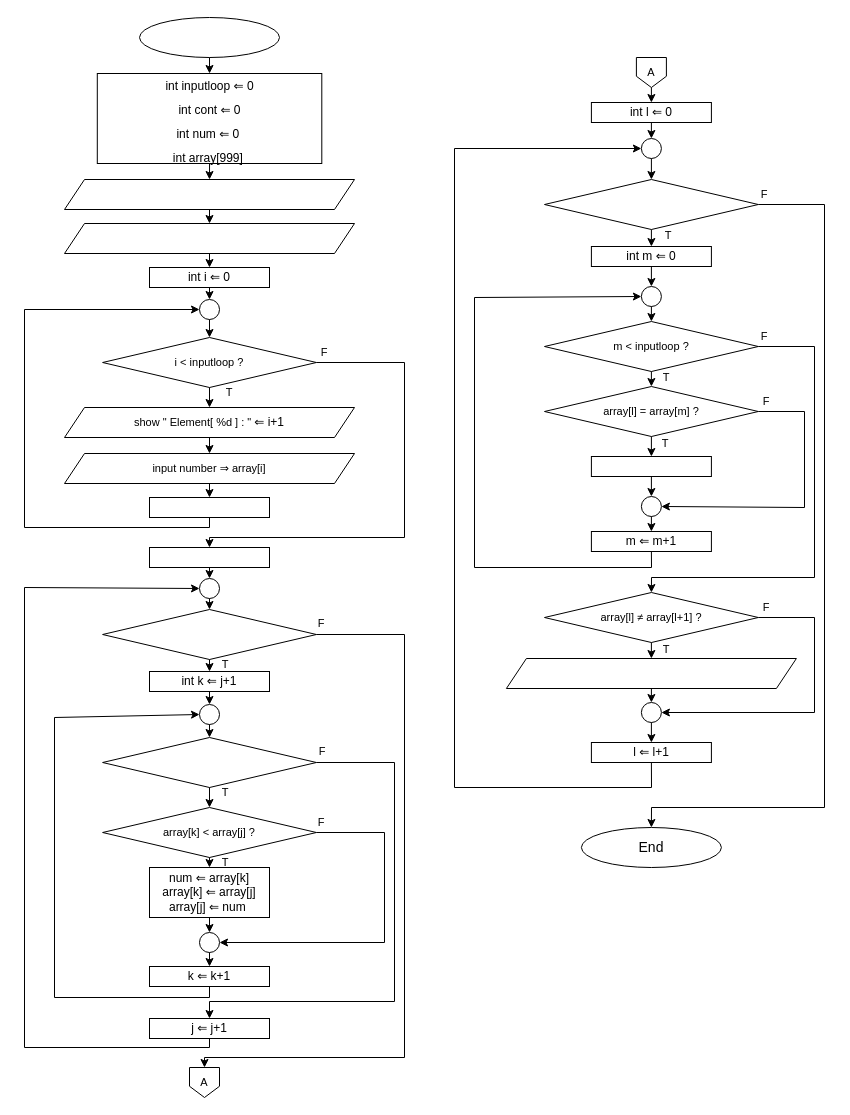
The diagram is 850 pixels wide and 1115 high, and some of its shapes have lost their labels. Each missing label, with the centre of its shape:
cont ⇐ cont+1: [650,466]
i ⇐ i+1: [209,507]
input number ⇒ inputloop: [209,238]
int j ⇐ 0: [209,557]
j < inputloop - 1 ?: [209,634]
k < inputloop ?: [209,762]
l < inputloop ?: [651,204]
show " %d -> %d " ⇐ array[l], cont: [650,673]
show " Input number of element to be install array : ": [209,194]
Start: [209,37]
